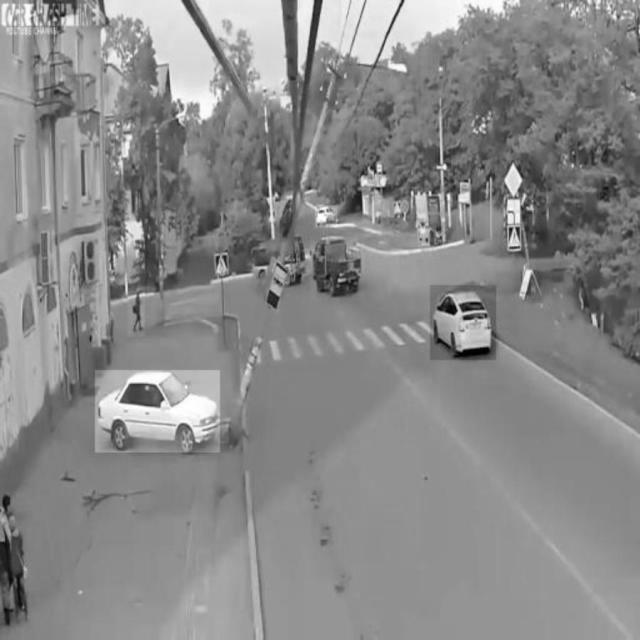person: (1, 494, 29, 626), (128, 285, 145, 337)
vehicle: (94, 370, 220, 452), (430, 286, 496, 360), (310, 238, 366, 300), (315, 205, 339, 227)
